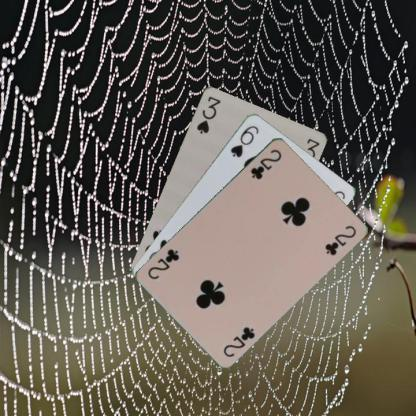2c: (248, 146, 283, 181), (221, 324, 256, 358)
3s: (193, 93, 222, 135)
6s: (228, 122, 260, 158)
